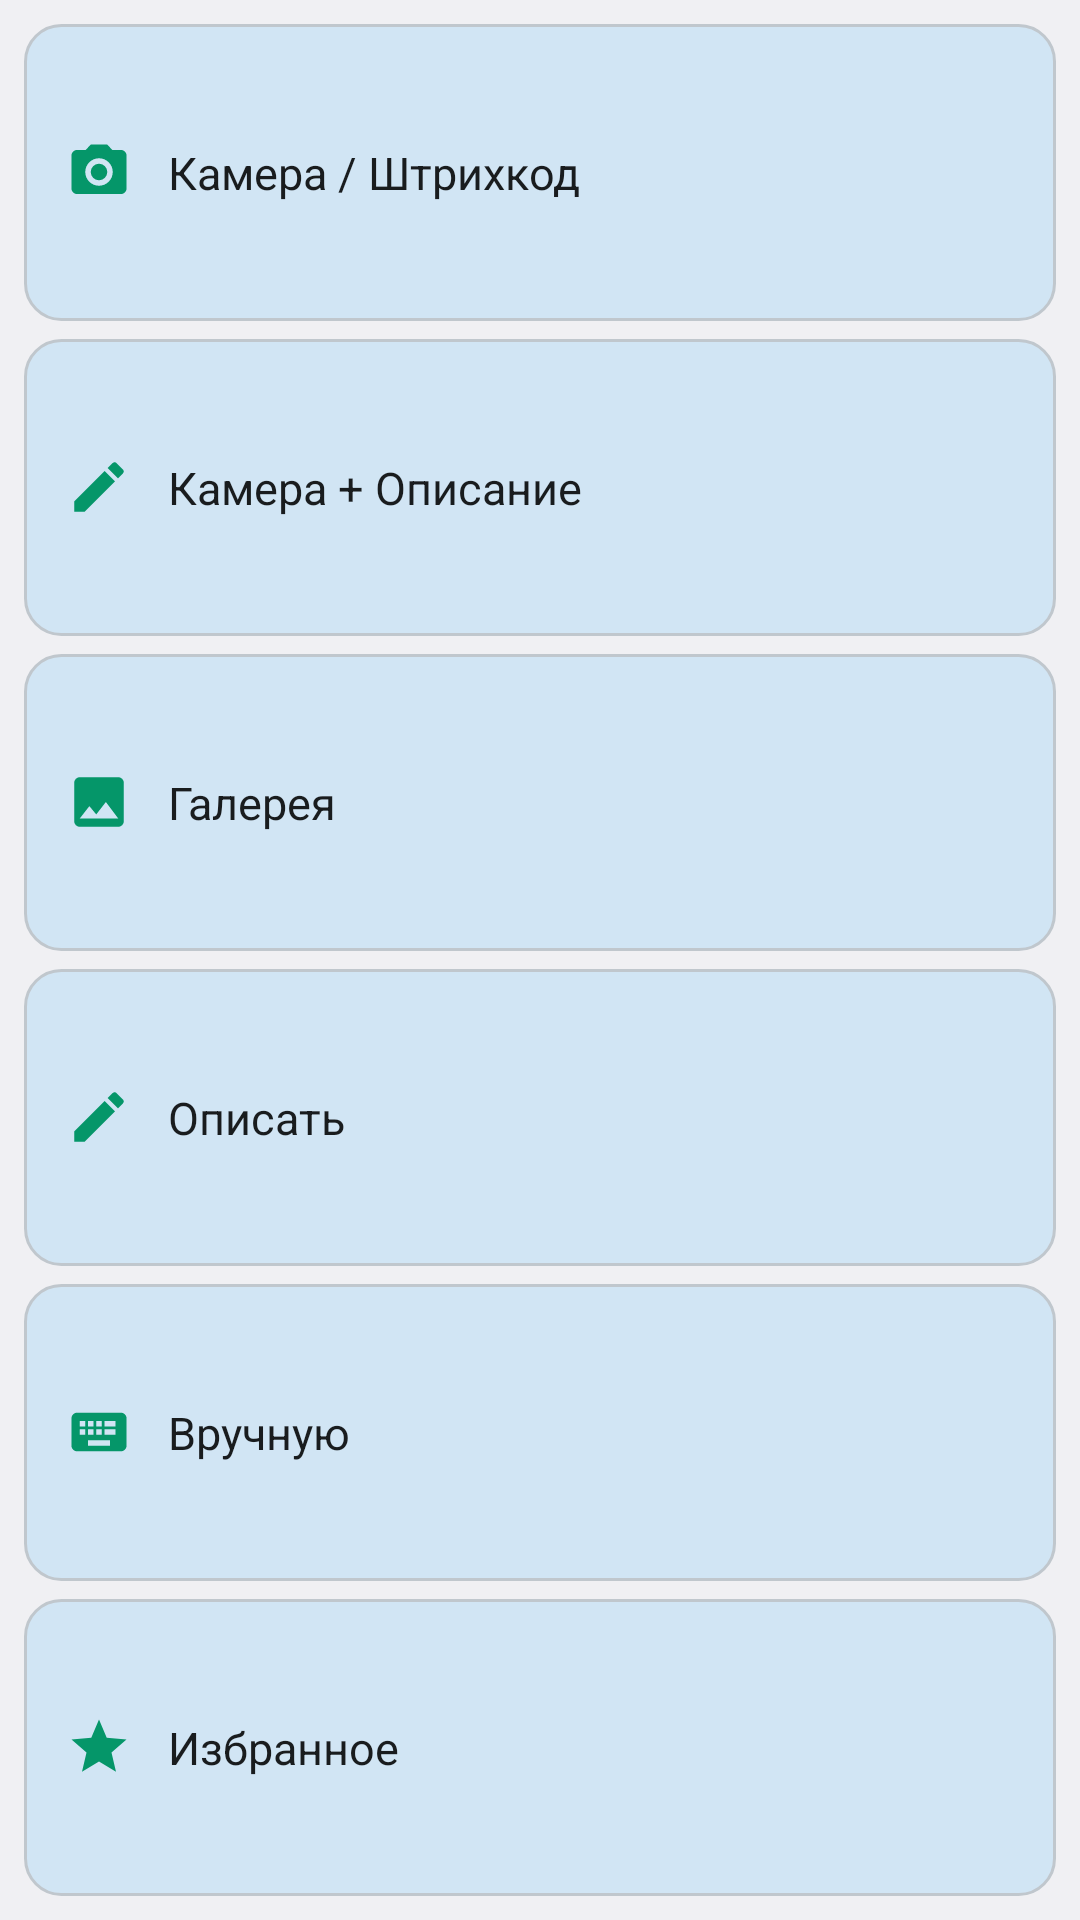

Where to tap for icons on this 1080w x 1920h app screen, as (x=x, y=y):
widget camera: (x=99, y=169)
widget gallery: (x=99, y=802)
widget keyboard: (x=99, y=1432)
widget pen: (x=99, y=487), (x=99, y=1117)
widget star: (x=99, y=1746)
